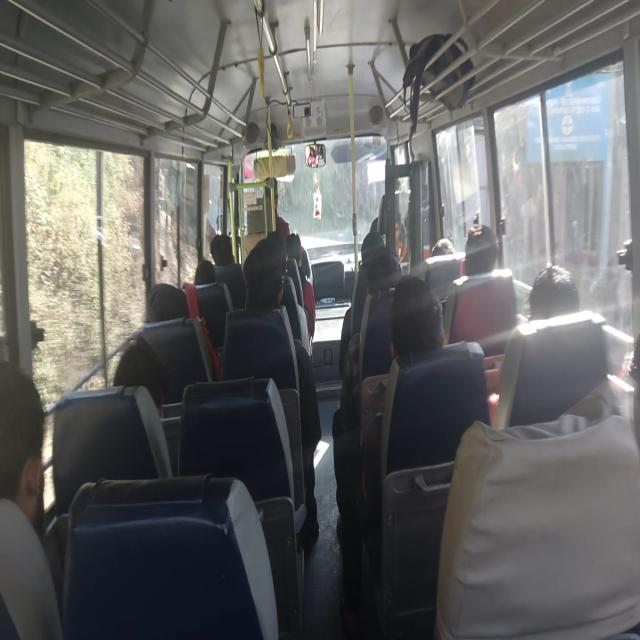person: (0, 371, 57, 490), (116, 345, 185, 423), (377, 244, 430, 314), (243, 254, 290, 324), (539, 255, 577, 333), (374, 290, 422, 350), (142, 282, 187, 338), (459, 235, 500, 278), (198, 248, 227, 304), (216, 228, 247, 278), (262, 234, 293, 273), (286, 230, 312, 273), (357, 236, 384, 263), (434, 238, 456, 258)
